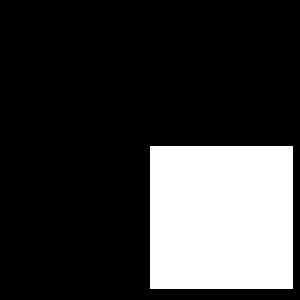circle: (150, 146, 293, 289)
rectangle: (166, 200, 214, 248)
